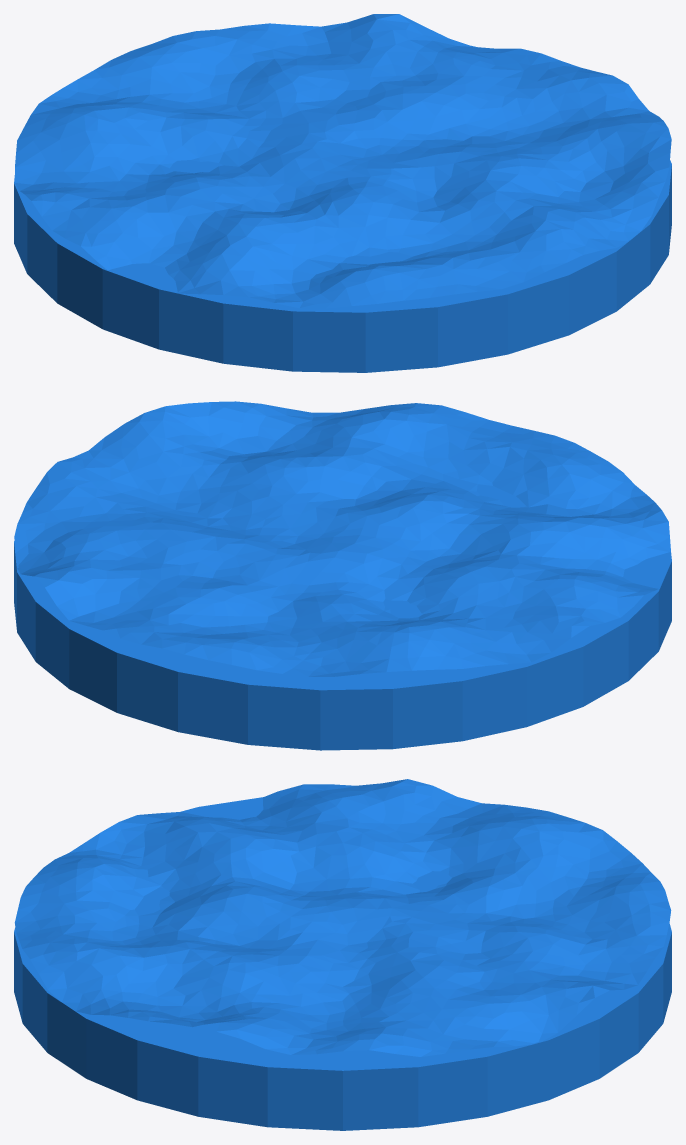
Rendered from water4.FBX.
3 views of the same model, one above another, from view 1: azimuth 30°, elevation 25°; view 2: azimuth 150°, elevation 25°; view 3: azimuth 270°, elevation 25° (orthographic).
Parts seen in each view (by area): view 1: Circle001, Circle002; view 2: Circle001, Circle002; view 3: Circle001, Circle002.
Boxes of the visible parts, x1=… form: Circle001: x1=15, y1=14, x2=671, y2=308; Circle002: x1=14, y1=45, x2=671, y2=372; Circle001: x1=14, y1=401, x2=670, y2=676; Circle002: x1=14, y1=412, x2=671, y2=750; Circle001: x1=14, y1=779, x2=671, y2=1056; Circle002: x1=14, y1=797, x2=671, y2=1130.
Bounding box in the file's own units: 677 × 100 × 677.
